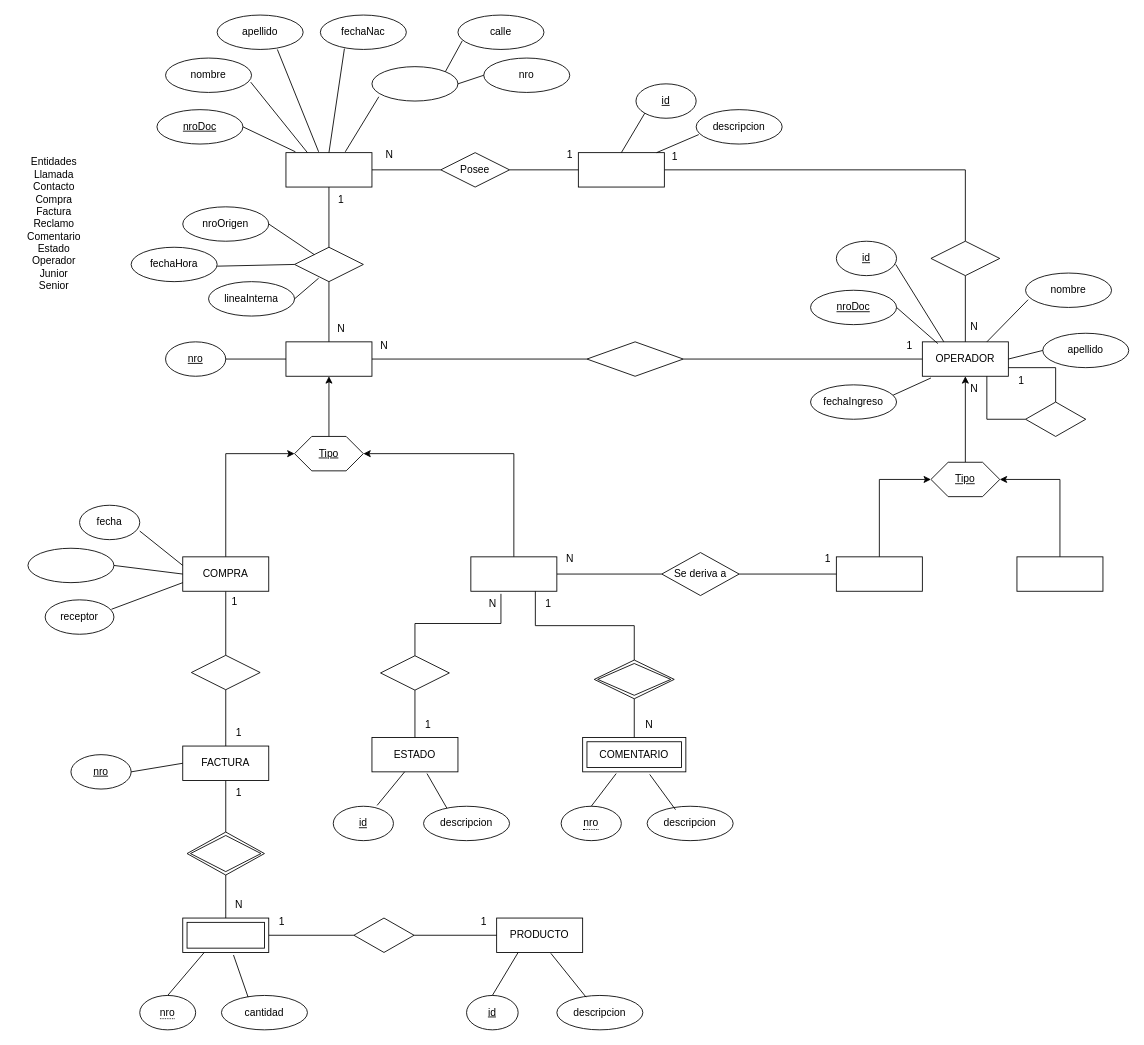
This 1144x1045 diagram has some shape labels left out. The box of each missing label's shape, as (x1, y1, x2, y2) in pixels:
Atendida por: (586, 341, 683, 376)
CONTACTO: (285, 152, 372, 187)
Coordina: (1025, 401, 1086, 436)
Corresponde a: (353, 917, 414, 952)
Cuenta con: (186, 831, 264, 875)
domicilio: (371, 66, 458, 101)
Forma parte de: (930, 240, 1000, 276)
Genera: (190, 654, 260, 690)
Incluye: (593, 659, 674, 699)
ITEM: (182, 917, 269, 952)
JUNIOR: (1016, 556, 1103, 591)
LLAMADA: (285, 341, 372, 376)
medioPago: (27, 547, 114, 583)
Realiza: (294, 246, 363, 282)
RECLAMO: (470, 556, 557, 591)
SENIOR: (835, 556, 922, 591)
Tiene: (380, 655, 449, 690)
TIPO DOCUMENTO: (577, 152, 664, 187)
